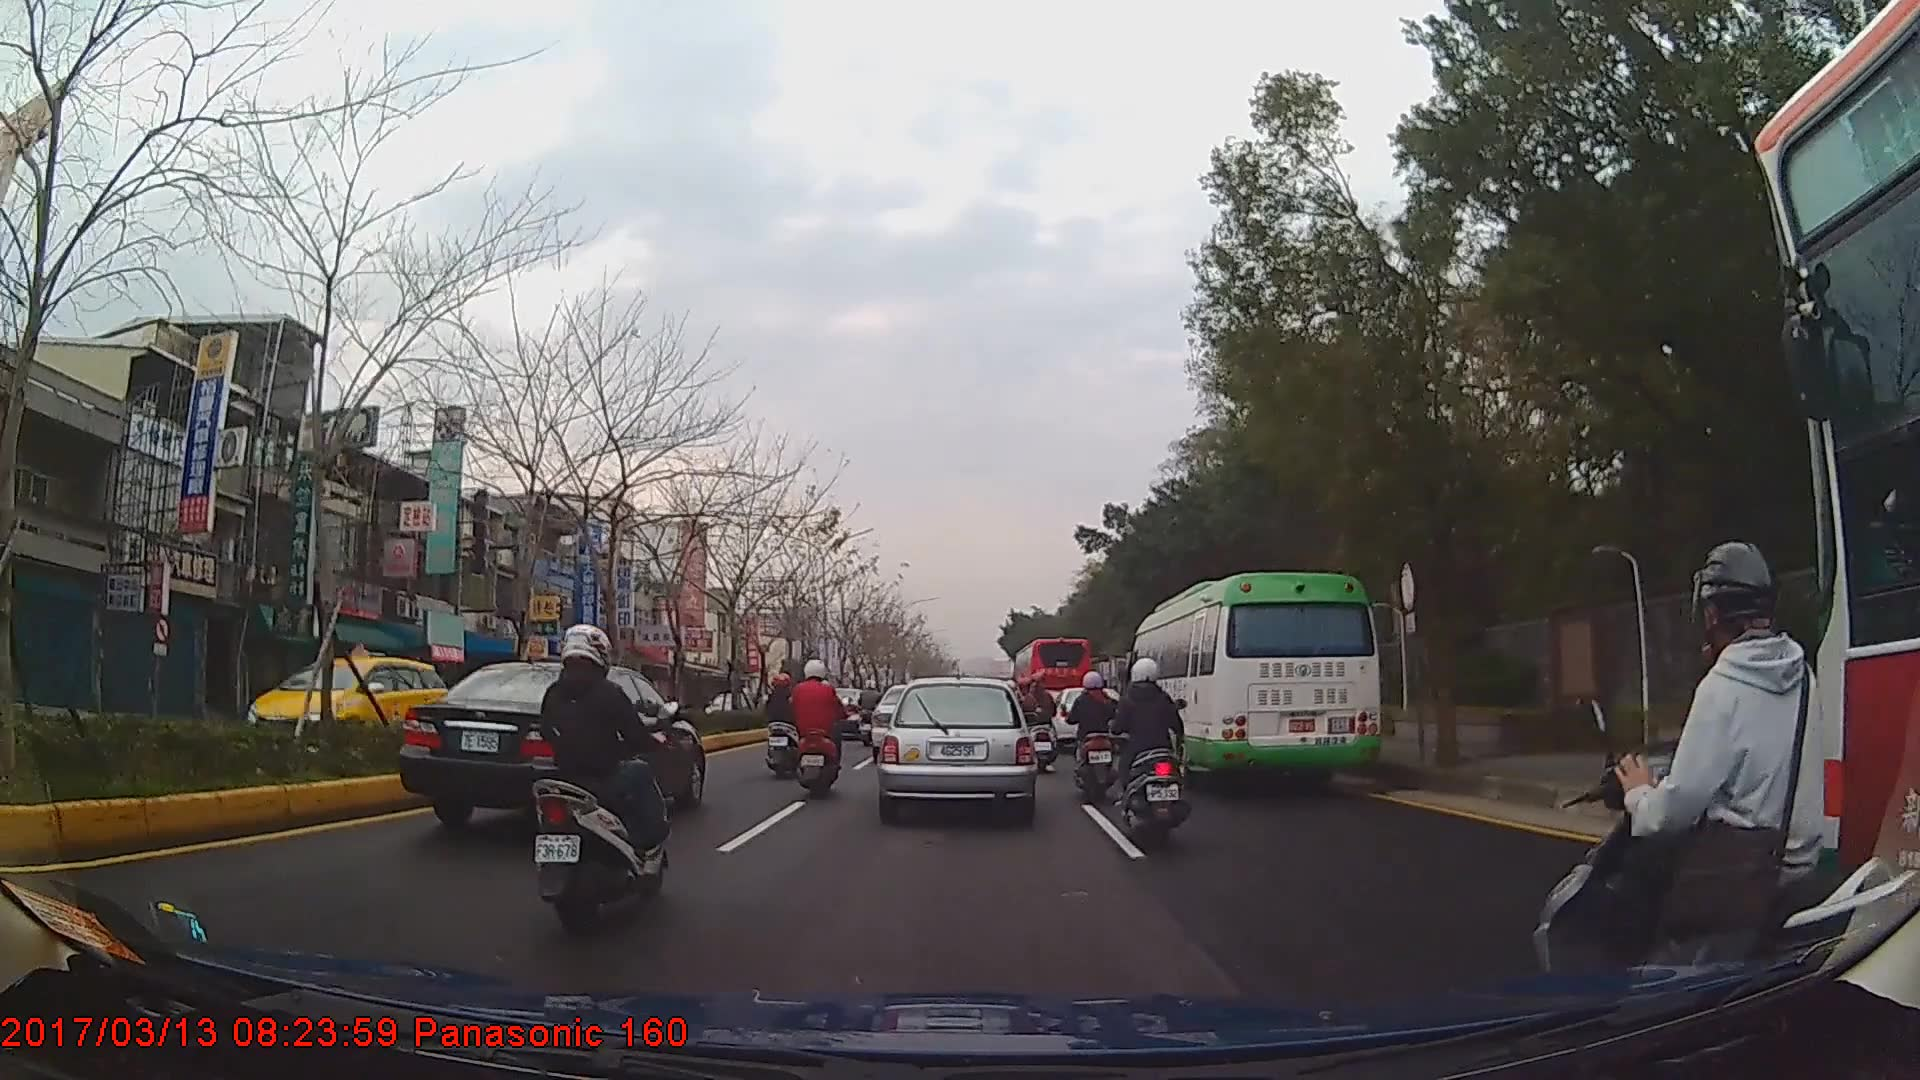rider: (1533, 534, 1901, 1017), (531, 620, 677, 931), (1115, 657, 1194, 850), (1065, 668, 1122, 804), (789, 658, 843, 800), (763, 672, 804, 779), (1017, 670, 1056, 773), (857, 679, 882, 746)
vehicle: (1123, 572, 1383, 797), (398, 659, 707, 835), (240, 638, 460, 769), (878, 676, 1033, 821), (1011, 632, 1095, 728)
